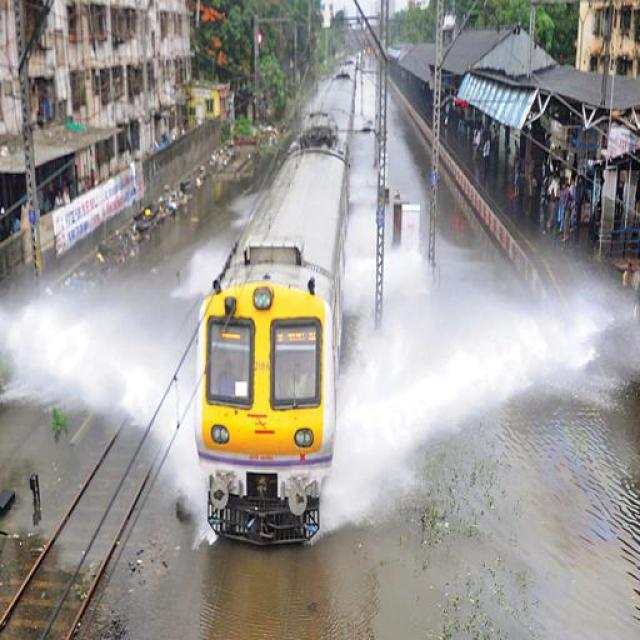puddle: (403, 319, 631, 634)
